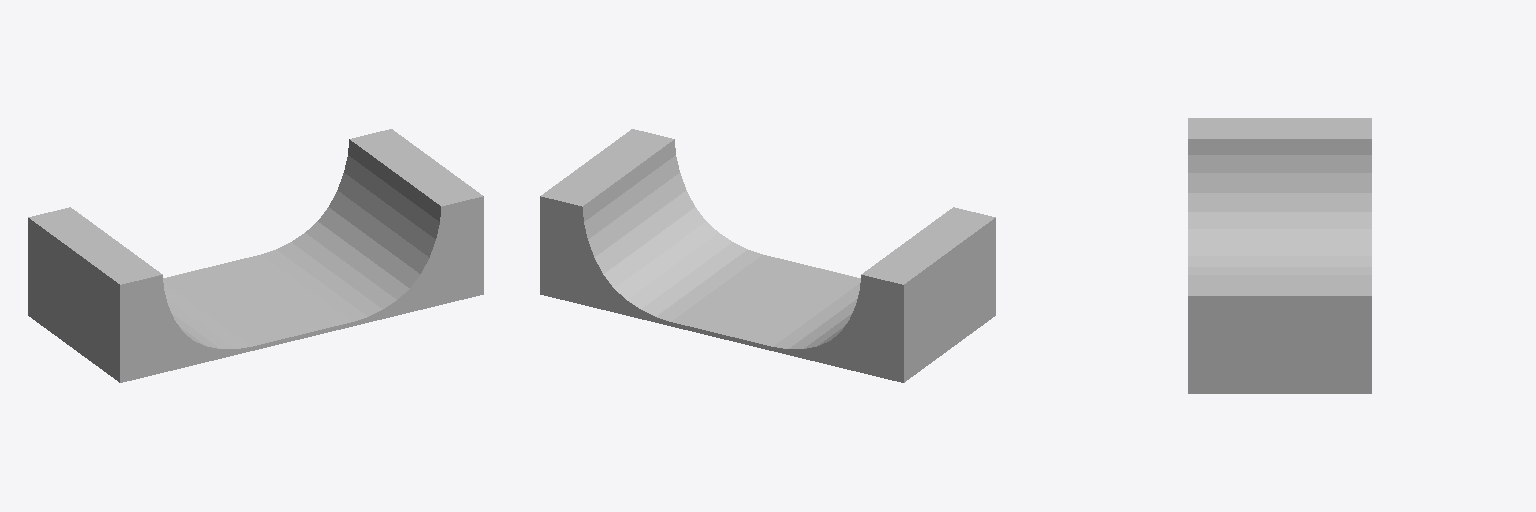
File: HalfPipe.obj
The picture shows the model from 3 angles: view 1: azimuth 30°, elevation 25°; view 2: azimuth 150°, elevation 25°; view 3: azimuth 270°, elevation 25°; orthographic projection.
Visible parts, largest first — view 1: HalfPipe; view 2: HalfPipe; view 3: HalfPipe.
Boxes of the visible parts, box(x1,y1,x2,y2) form: HalfPipe: box(28, 129, 483, 382); HalfPipe: box(540, 129, 995, 382); HalfPipe: box(1188, 118, 1371, 393).
Size of the model in its own units: 19.03 by 4.92 by 8.36.